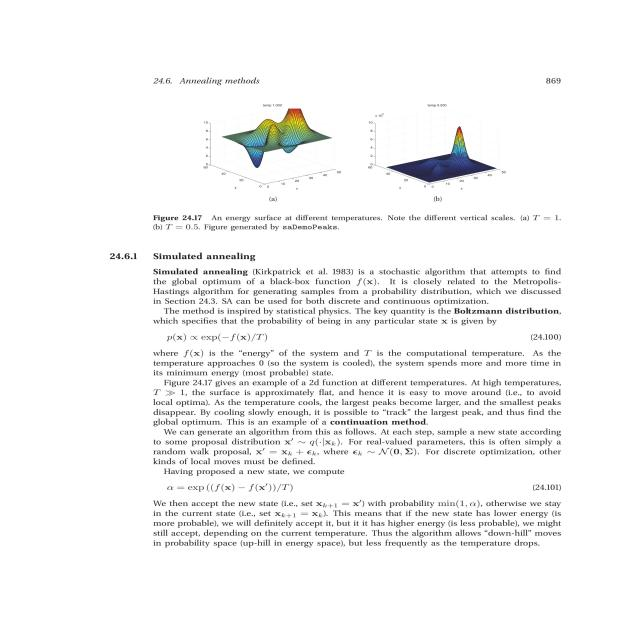diagram: (22, 97, 640, 233)
